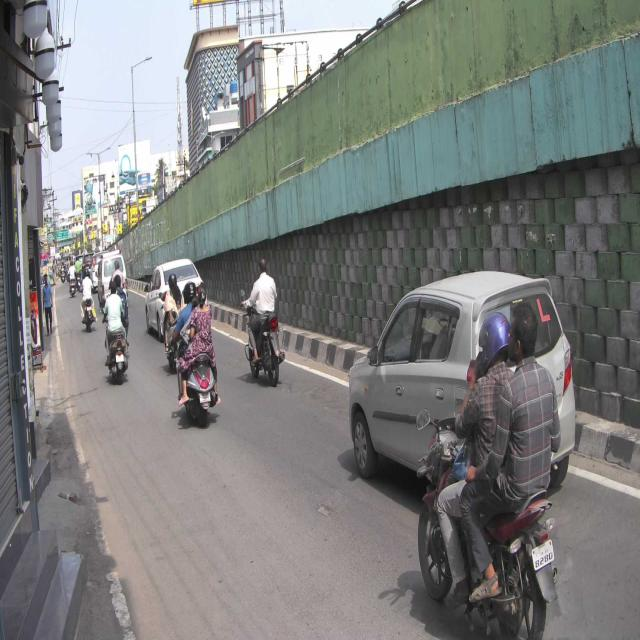double_rider: (416, 297, 558, 640)
